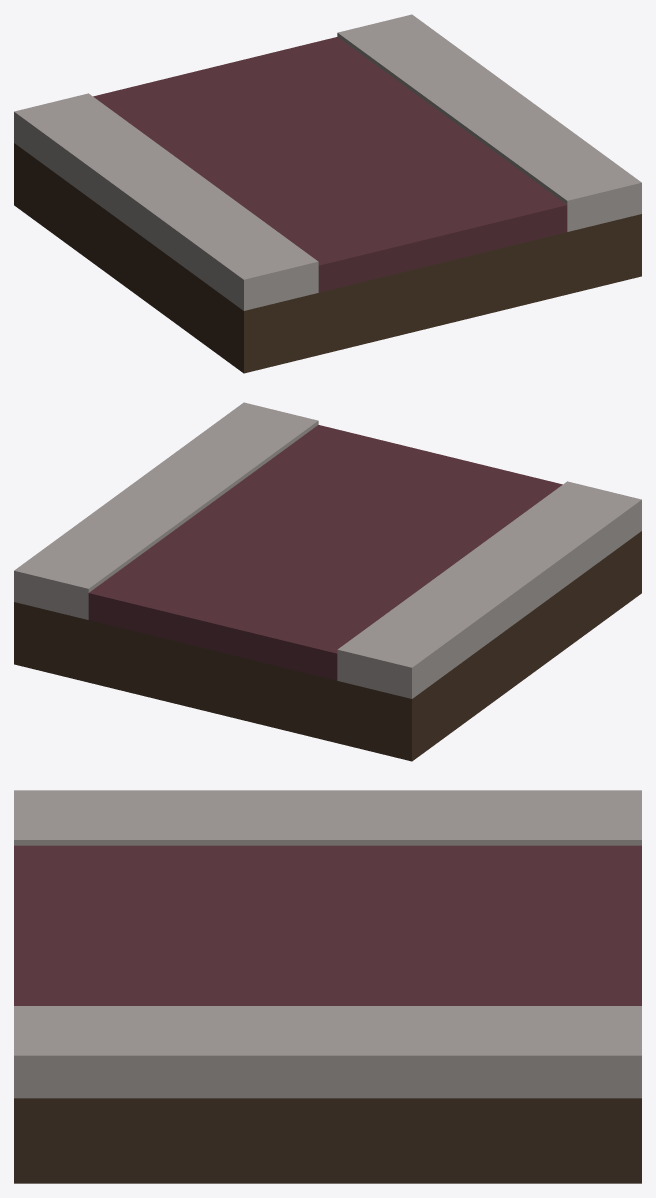
Rendered from world-city.fbx.
3 renders of one model, top to bottom at view 1: azimuth 30°, elevation 25°; view 2: azimuth 150°, elevation 25°; view 3: azimuth 270°, elevation 25°, orthographic. The views are drawn at different scales.
Visible parts, largest first — view 1: world-city; view 2: world-city; view 3: world-city.
Part boxes in pixels (x1,y1,x2,y2): world-city: (14, 14, 641, 373); world-city: (14, 402, 641, 761); world-city: (14, 790, 641, 1183).
Bounding box in the file's own units: 20 × 4.5 × 20.
